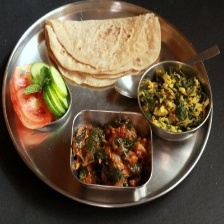sabzi: (70, 110, 152, 188)
